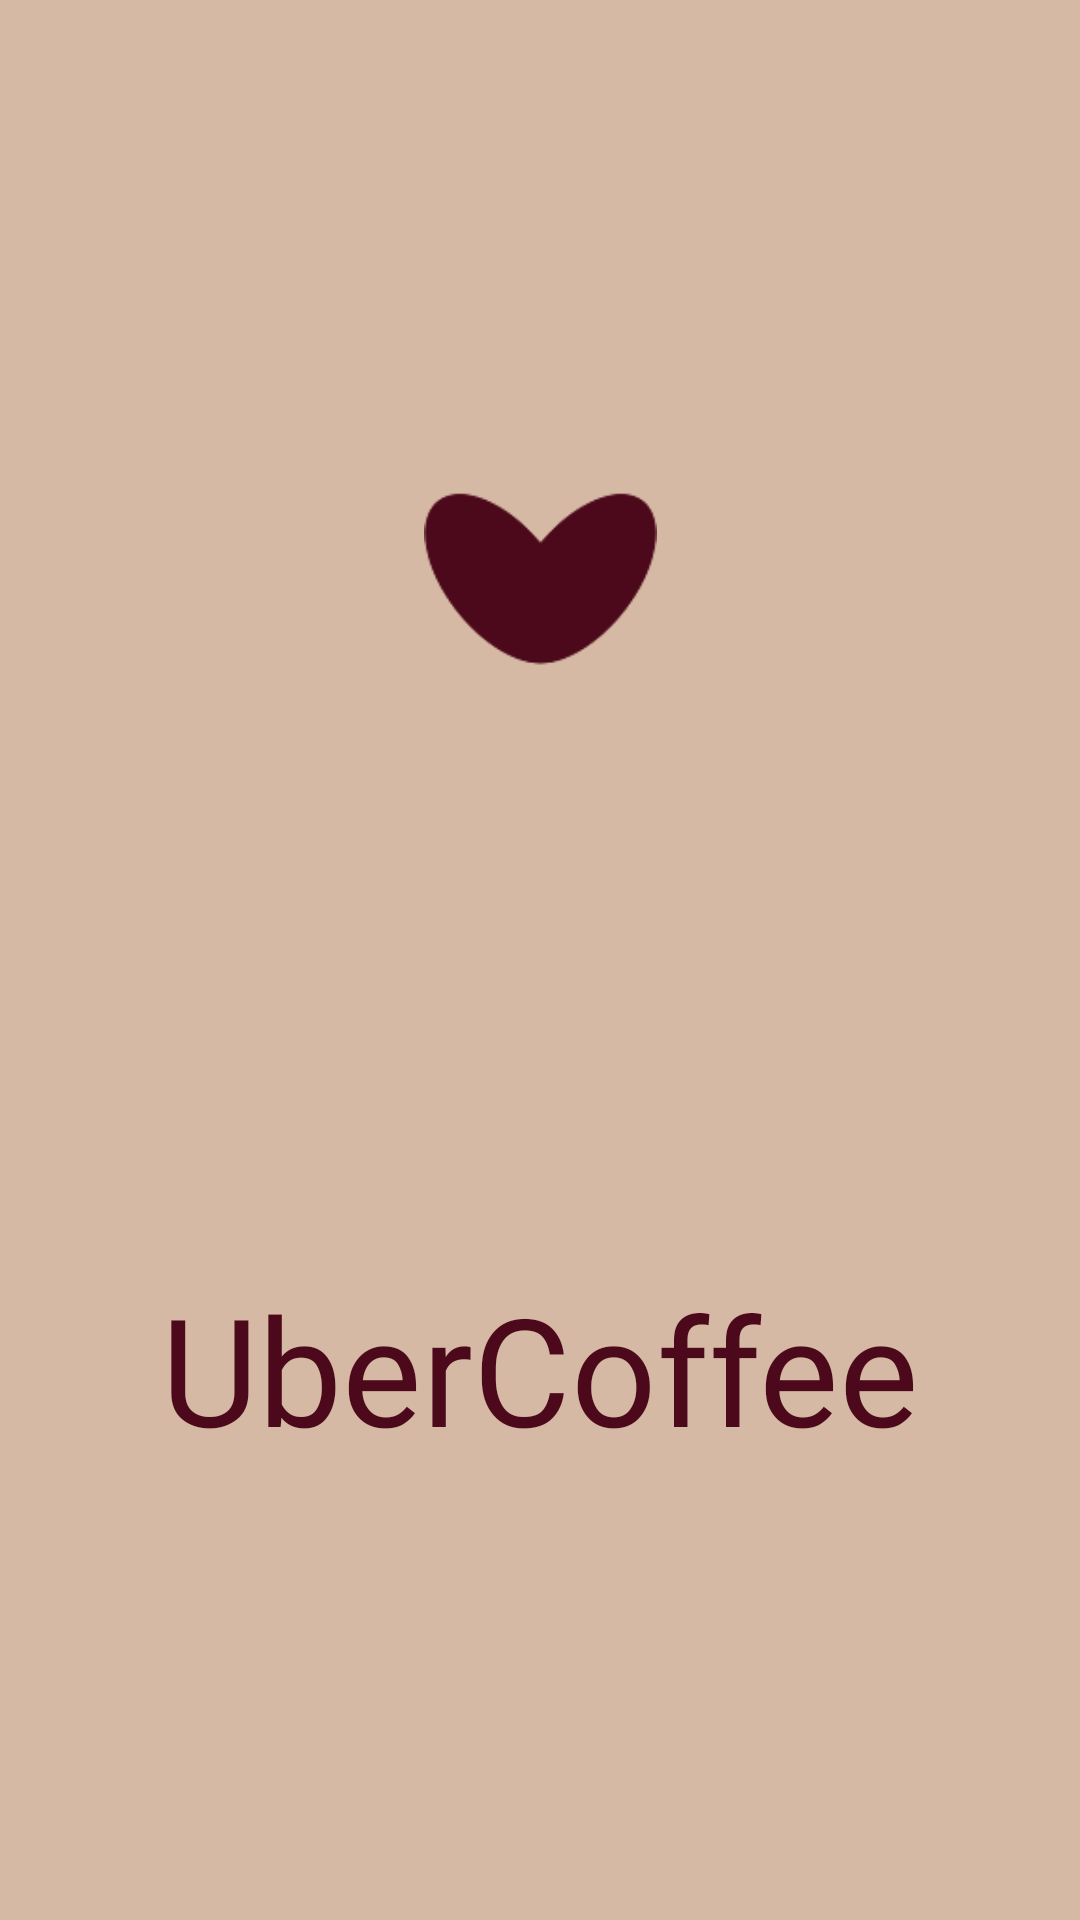

Where icons sit on this 1080*1920 app screen, as (x1, y1, x2, y2):
heart: (424, 493, 657, 665)
